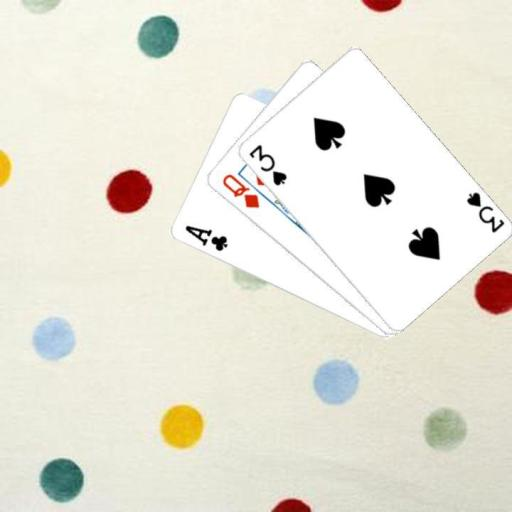3S: (245, 141, 289, 188), (462, 189, 506, 235)
AC: (181, 222, 229, 253)
QD: (218, 171, 261, 210)
